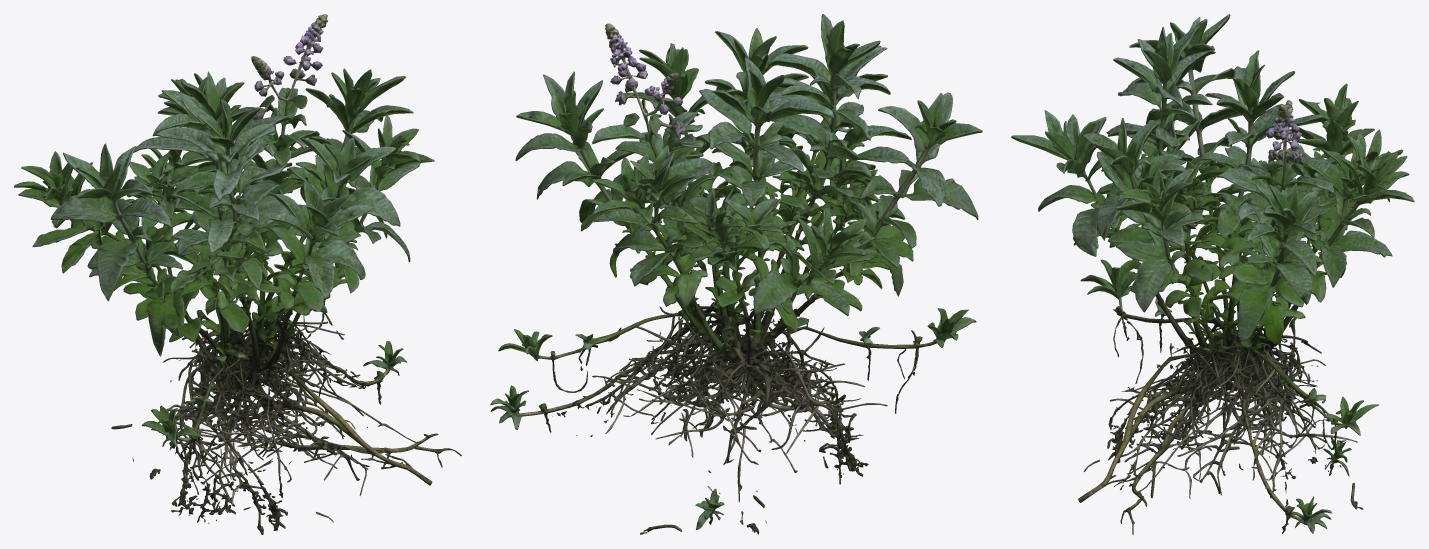
File: menta.glb
3 renders of one model, left to right at view 1: azimuth 30°, elevation 25°; view 2: azimuth 150°, elevation 25°; view 3: azimuth 270°, elevation 25°, orthographic. The views are drawn at different scales.
Parts seen in each view (by area): view 1: geometry_0; view 2: geometry_0; view 3: geometry_0.
Boxes of the visible parts, x1,y1,x2,y2 form: geometry_0: [14, 14, 461, 534]; geometry_0: [490, 14, 982, 534]; geometry_0: [1011, 14, 1414, 534].
Bounding box in the file's own units: 0.9483 × 0.9996 × 0.8333.
1 material, 1 textured.
